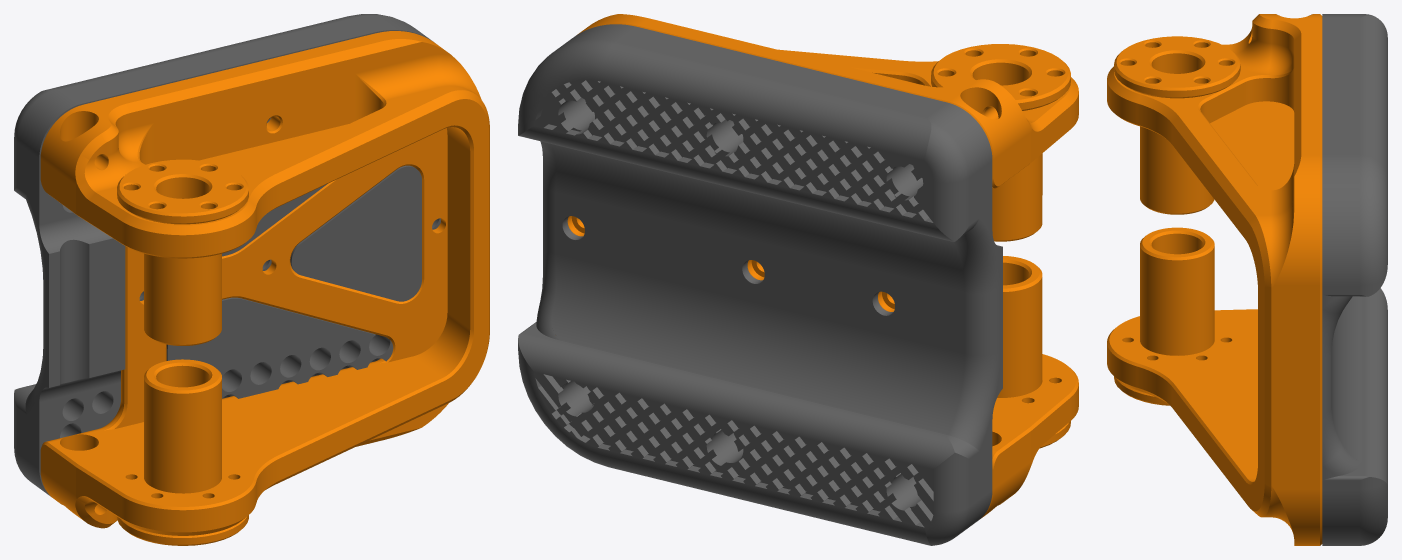
File: toe_link.dae
3 views of the same model, side by side, from view 1: azimuth 30°, elevation 25°; view 2: azimuth 150°, elevation 25°; view 3: azimuth 270°, elevation 25° (orthographic). The views are drawn at different scales.
Parts seen in each view (by area): view 1: Layout_Toe_Machining, Toe_Pad, Toe_Big_Pin (×2); view 2: Toe_Pad, Layout_Toe_Machining, Toe_Big_Pin (×2); view 3: Layout_Toe_Machining, Toe_Pad, Toe_Big_Pin (×2).
Part boxes in pixels (<box>): Layout_Toe_Machining: <box>40,31,489,535</box>; Toe_Pad: <box>14,14,440,496</box>; Toe_Big_Pin (×2): <box>117,159,248,545</box>; Toe_Pad: <box>518,24,1002,545</box>; Layout_Toe_Machining: <box>567,14,1078,518</box>; Toe_Big_Pin (×2): <box>931,44,1070,448</box>; Layout_Toe_Machining: <box>1107,14,1322,545</box>; Toe_Pad: <box>1322,14,1387,545</box>; Toe_Big_Pin (×2): <box>1114,36,1240,405</box>.
Bounding box in the file's own units: 0.1 × 0.09 × 0.06.
